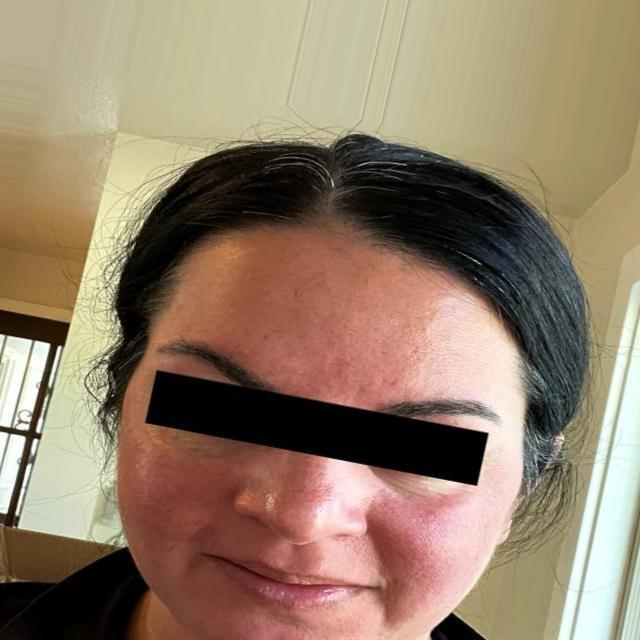Rosacea: (109, 432, 223, 578), (362, 487, 477, 622), (214, 620, 334, 640)
